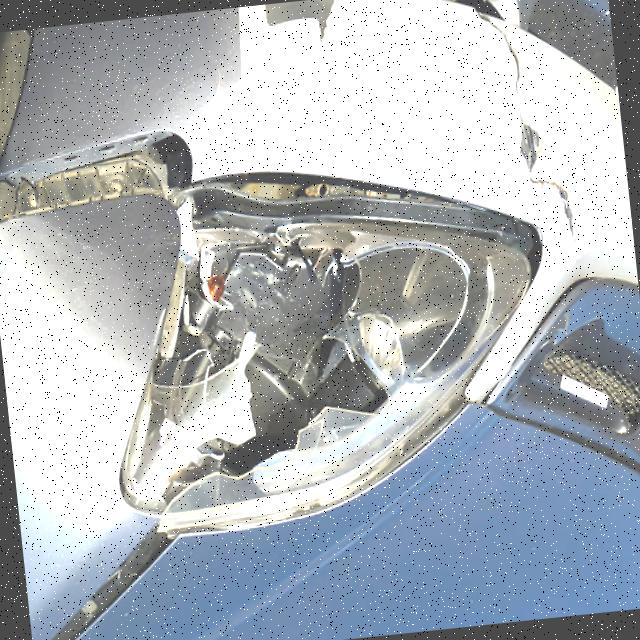Head Light: (131, 172, 492, 514)
